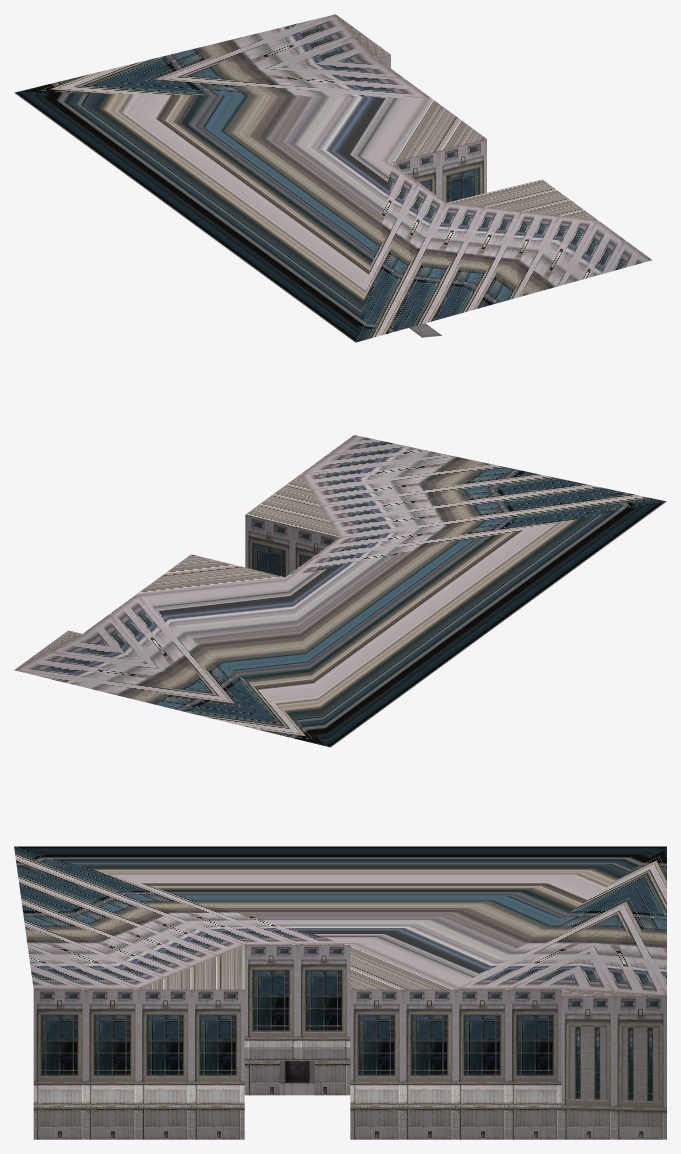
The model's file is M2Zone4_Building10.glb.
The picture shows the model from 3 angles, top to bottom: view 1: azimuth 30°, elevation 25°; view 2: azimuth 150°, elevation 25°; view 3: azimuth 270°, elevation 25°; orthographic projection. The views are drawn at different scales.
Parts seen in each view (by area): view 1: M2ZONE4_BUILDING10; view 2: M2ZONE4_BUILDING10; view 3: M2ZONE4_BUILDING10.
Boxes of the visible parts, x1,y1,x2,y2 form: M2ZONE4_BUILDING10: [14, 14, 652, 342]; M2ZONE4_BUILDING10: [14, 435, 666, 747]; M2ZONE4_BUILDING10: [14, 846, 666, 1139].
Bounding box in the file's own units: 26.93 × 12 × 49.49.
Materials: 3 (3 with a texture image).
